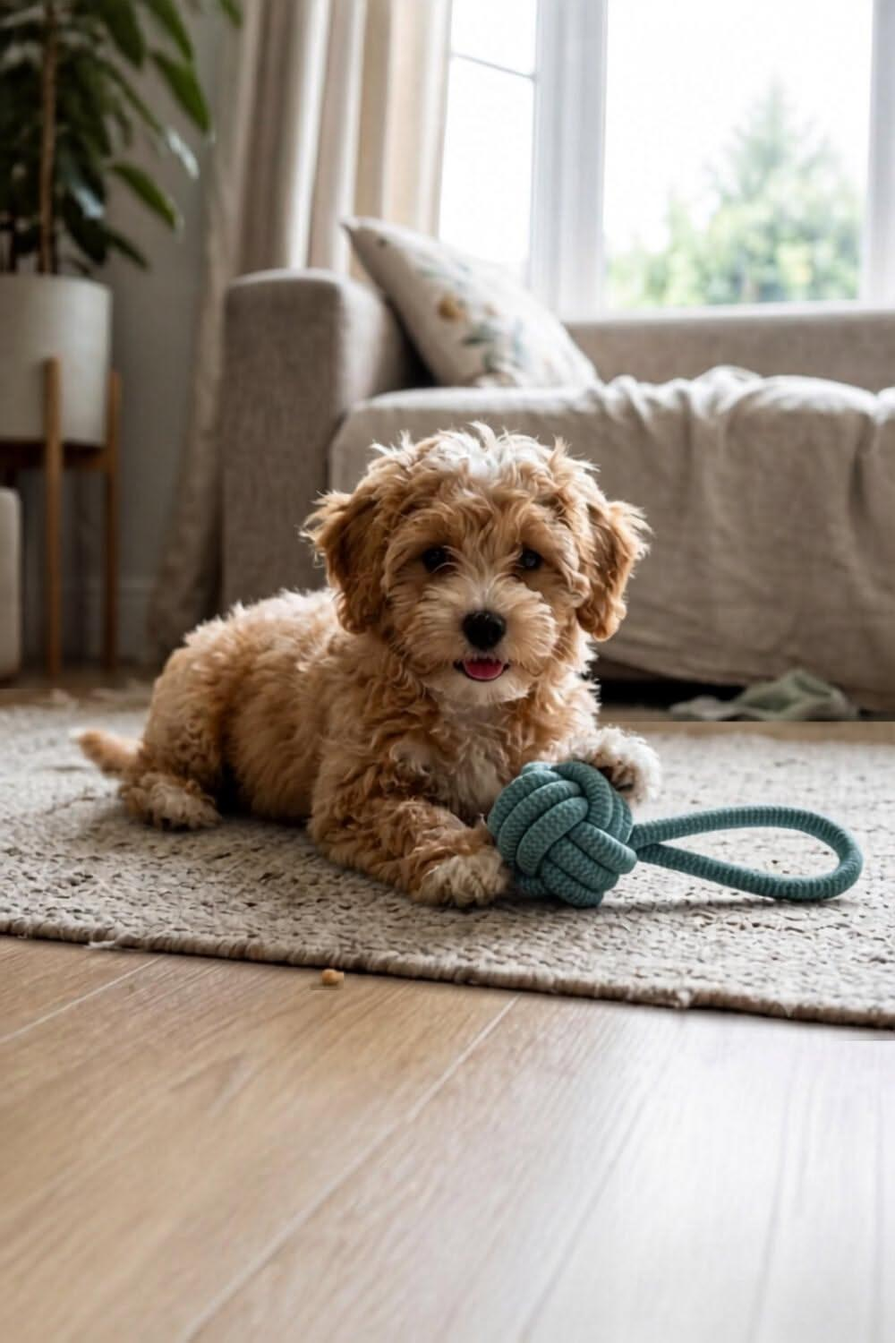puppy-dog: (70, 424, 661, 912)
